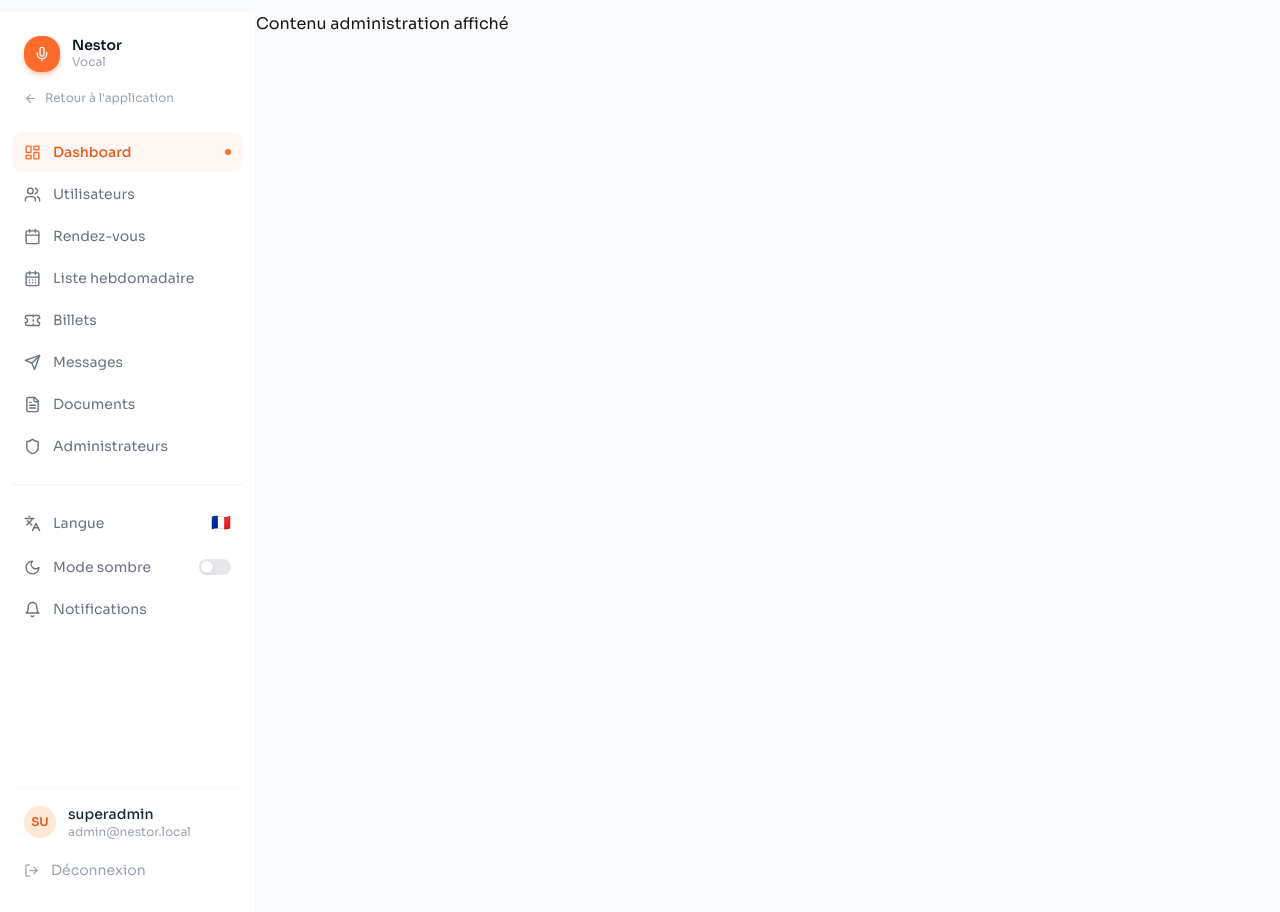
Test: AdminLayout › ferme le menu langue lors d’un clic extérieur
Click the button "Langue 🇫🇷" at (128, 523), box [12,501,243,545]
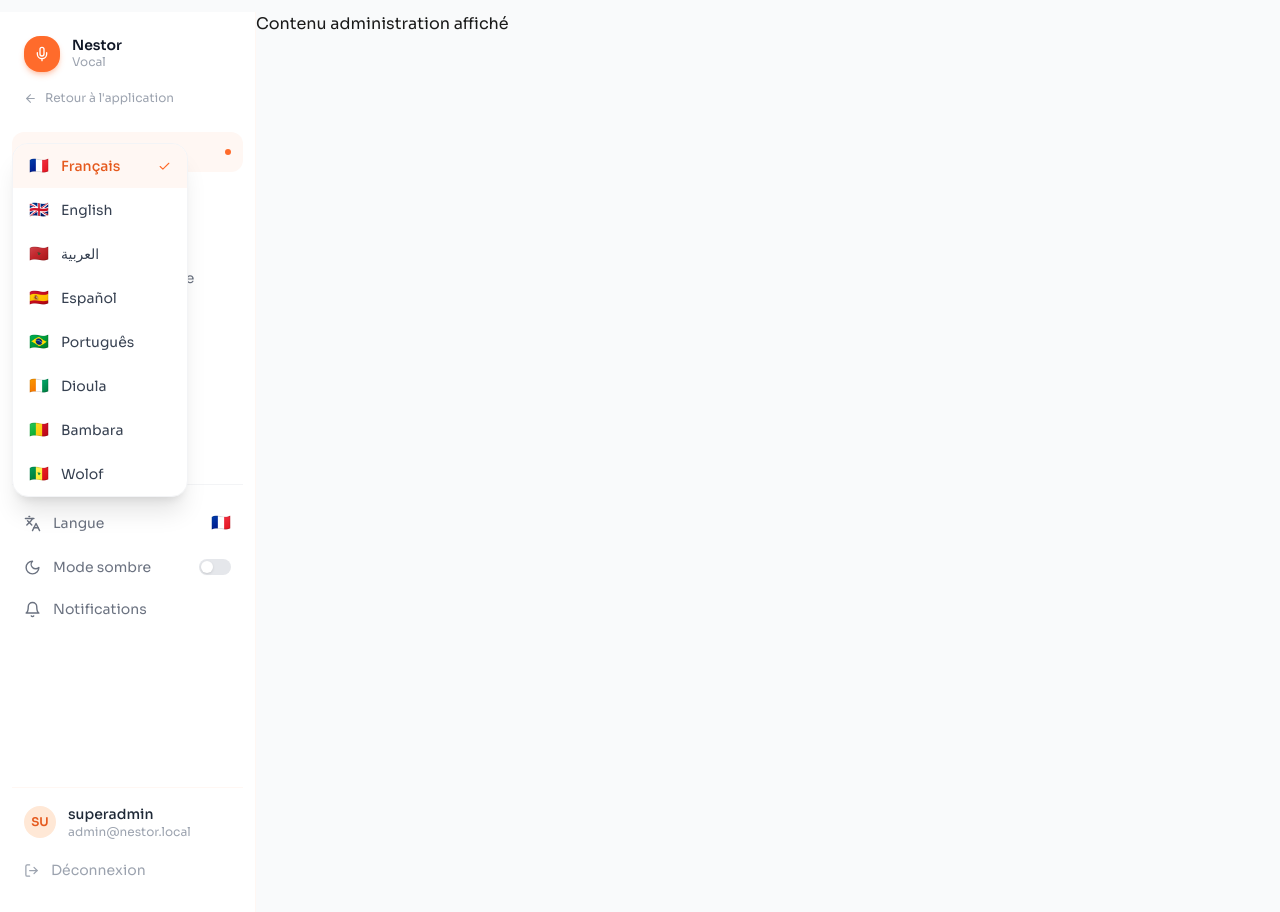
Result: the button "🇬🇧 English" is shown at [13,188,187,232]
Press the mouse on the element that starts with "Nestor" at (640, 462), box [0,12,1279,911]
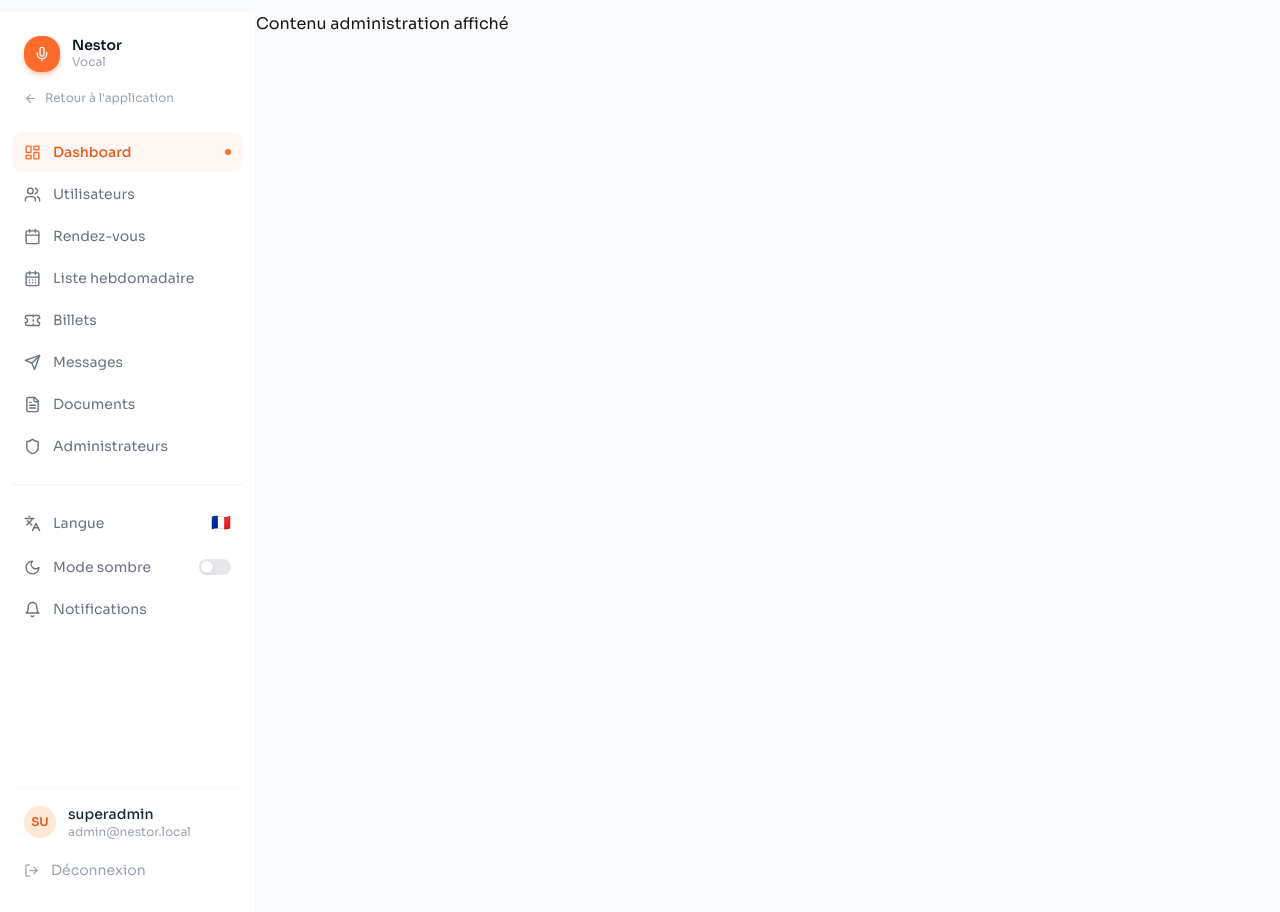
Result: the button "English" is gone
